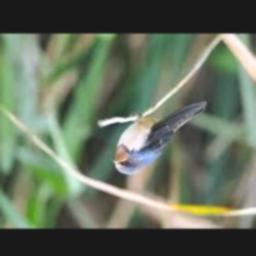Swallow: (114, 101, 210, 174)
